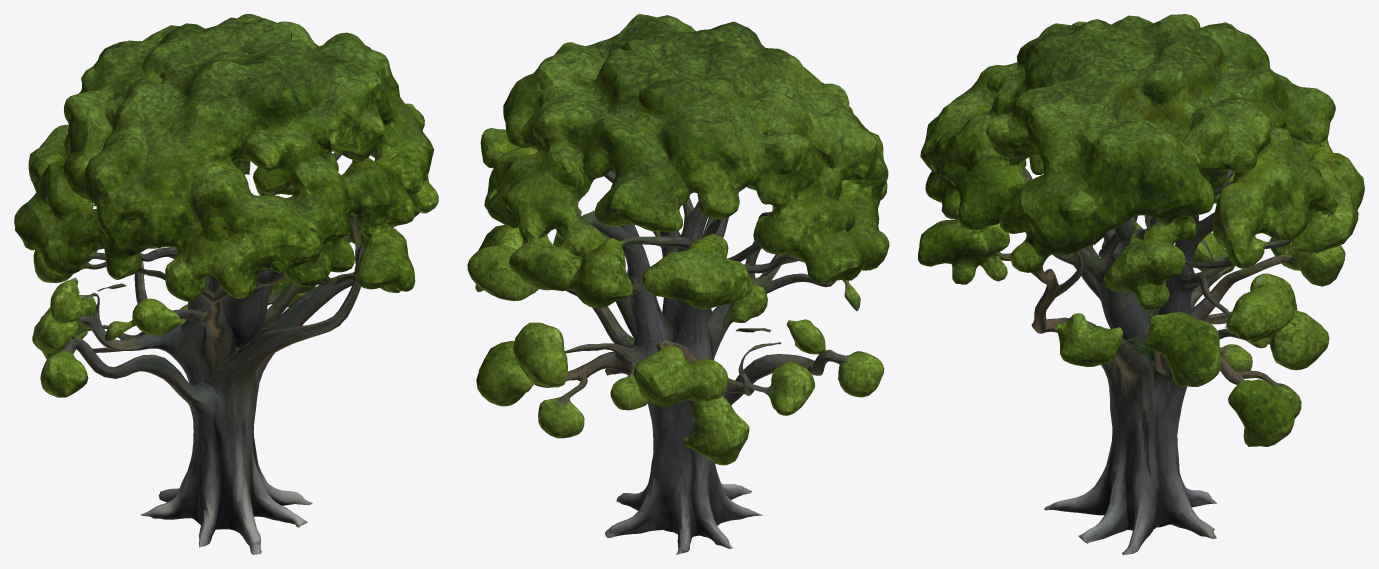
File: veg_tree_oak_01.glb
3 renders of one model, left to right at view 1: azimuth 30°, elevation 25°; view 2: azimuth 150°, elevation 25°; view 3: azimuth 270°, elevation 25°, orthographic. The views are drawn at different scales.
Visible parts, largest first — view 1: veg_tree_oak_01; view 2: veg_tree_oak_01; view 3: veg_tree_oak_01.
Part boxes in pixels (<box>): veg_tree_oak_01: <box>14,14,438,554</box>; veg_tree_oak_01: <box>467,14,889,554</box>; veg_tree_oak_01: <box>918,14,1364,554</box>.
Size of the model in its own units: 12.26 by 14.28 by 12.
1 material, 1 textured.
